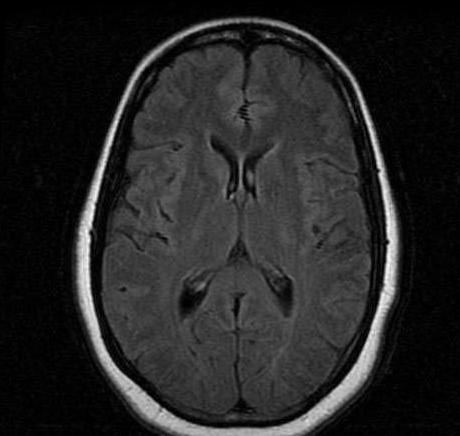Normal_Brain: (88, 1, 418, 423)
